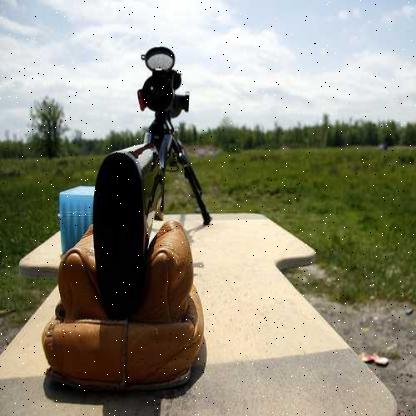rifle: (78, 20, 231, 330)
